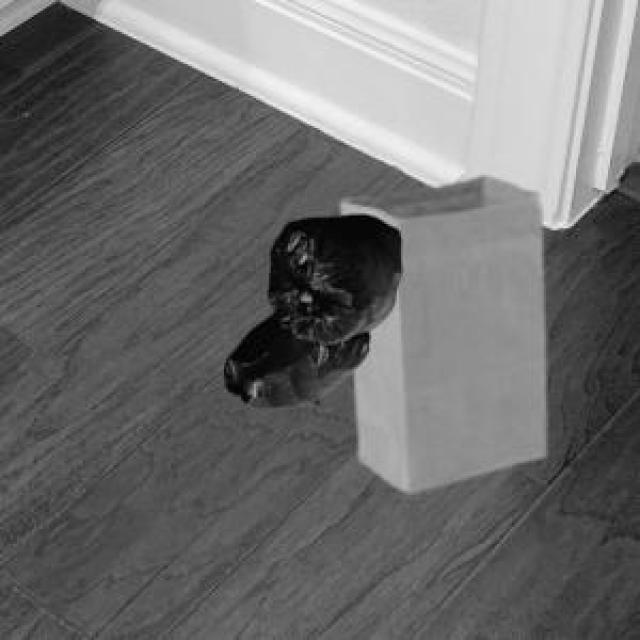miscellaneous trash: (220, 211, 397, 403)
paper: (337, 173, 542, 489)
